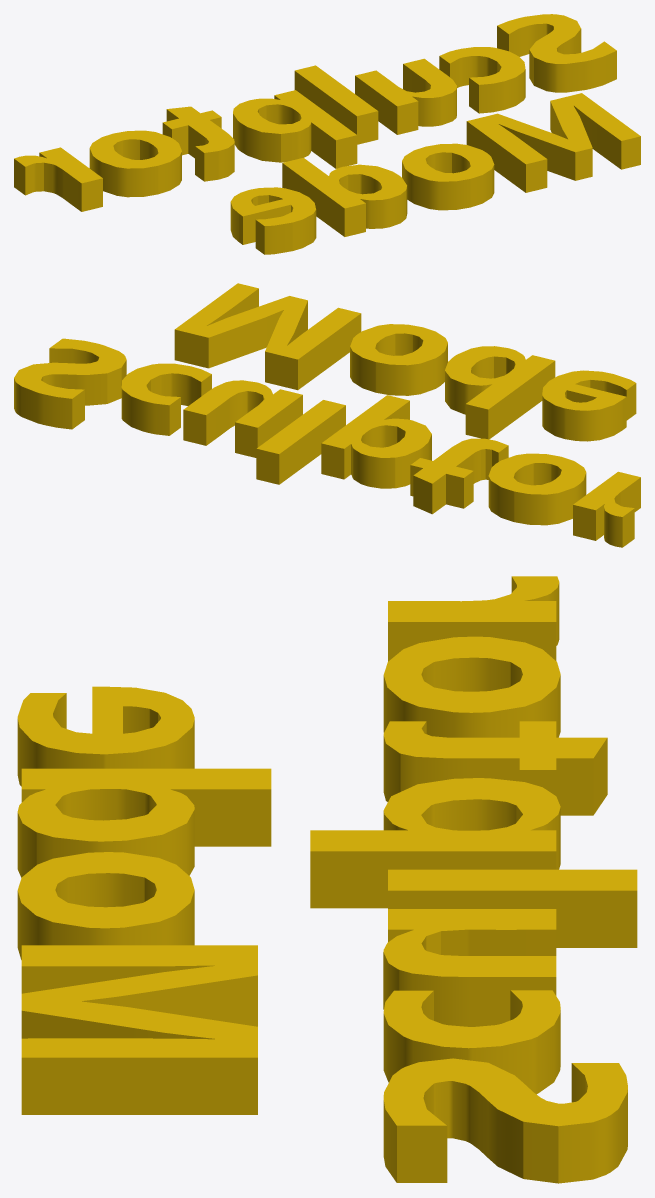
File: SculptorMode.fbx
The picture shows the model from 3 angles, top to bottom: view 1: azimuth 30°, elevation 25°; view 2: azimuth 150°, elevation 25°; view 3: azimuth 270°, elevation 25°; orthographic projection. The views are drawn at different scales.
Visible parts, largest first — view 1: Char_S_2_curve25; view 2: Char_S_2_curve25; view 3: Char_S_2_curve25.
Part boxes in pixels (bbox=[...]): Char_S_2_curve25: bbox=[14, 14, 640, 254]; Char_S_2_curve25: bbox=[14, 283, 640, 547]; Char_S_2_curve25: bbox=[17, 576, 637, 1183].
Size of the model in its own units: 103 by 5.04 by 49.02.
